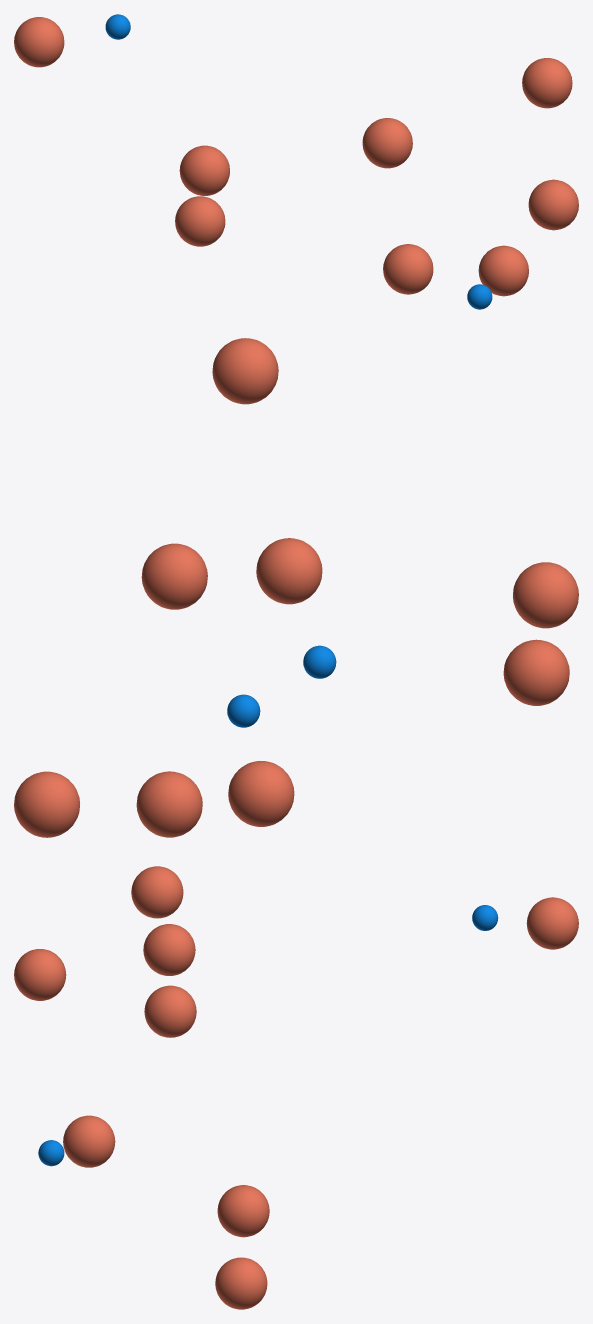
File: asset.glb
3 views of the same model, one above another, from view 1: azimuth 30°, elevation 25°; view 2: azimuth 150°, elevation 25°; view 3: azimuth 270°, elevation 25° (orthographic). The views are drawn at different scales.
Visible parts, largest first — view 1: O2_particle_2, O2_particle_1, O2_particle_4, O2_particle_5, O2_particle_8, O2_particle_6, O2_particle_3, O2_particle_7, H2_particle_2, H2_particle_1; view 2: O2_particle_4, O2_particle_5, O2_particle_3, O2_particle_1, O2_particle_6, O2_particle_7, O2_particle_8, O2_particle_2, H2_particle_1, H2_particle_2; view 3: O2_particle_7, O2_particle_3, O2_particle_4, O2_particle_6, O2_particle_1, O2_particle_8, O2_particle_2, O2_particle_5, H2_particle_1.
Part boxes in pixels (<box>): O2_particle_2: <box>175,196,225,246</box>; O2_particle_1: <box>528,179,578,230</box>; O2_particle_4: <box>362,118,412,168</box>; O2_particle_5: <box>522,58,572,108</box>; O2_particle_8: <box>14,17,64,67</box>; O2_particle_6: <box>383,244,433,294</box>; O2_particle_3: <box>179,145,229,195</box>; O2_particle_7: <box>478,245,528,296</box>; H2_particle_2: <box>105,14,130,39</box>; H2_particle_1: <box>467,284,492,309</box>; O2_particle_4: <box>256,538,322,604</box>; O2_particle_5: <box>212,338,278,404</box>; O2_particle_3: <box>513,562,578,628</box>; O2_particle_1: <box>141,543,207,609</box>; O2_particle_6: <box>136,771,202,837</box>; O2_particle_7: <box>14,771,79,837</box>; O2_particle_8: <box>228,761,294,826</box>; O2_particle_2: <box>503,639,569,705</box>; H2_particle_1: <box>303,645,336,678</box>; H2_particle_2: <box>227,694,260,727</box>; O2_particle_7: <box>215,1257,267,1309</box>; O2_particle_3: <box>131,866,183,918</box>; O2_particle_4: <box>144,985,196,1037</box>; O2_particle_6: <box>217,1185,269,1237</box>; O2_particle_1: <box>63,1115,115,1167</box>; O2_particle_8: <box>526,897,578,949</box>; O2_particle_2: <box>143,924,195,975</box>; O2_particle_5: <box>14,949,66,1000</box>; H2_particle_1: <box>38,1140,64,1166</box>.
Size of the model in its own units: 5.25 by 4.17 by 6.49.
